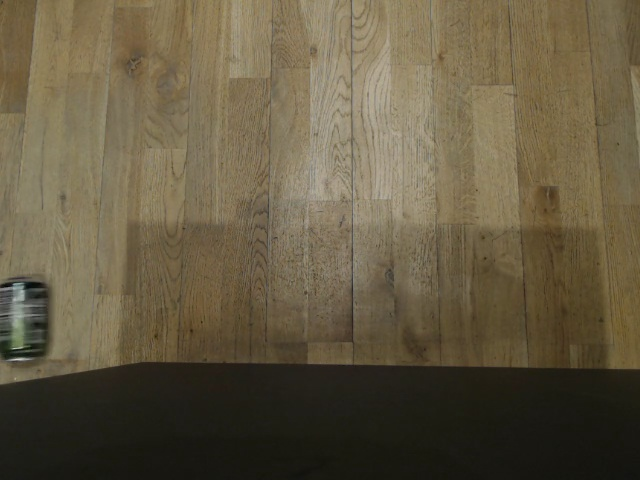beer: (0, 276, 49, 364)
